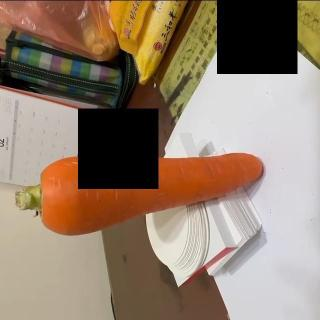carrot: (15, 151, 265, 236)
